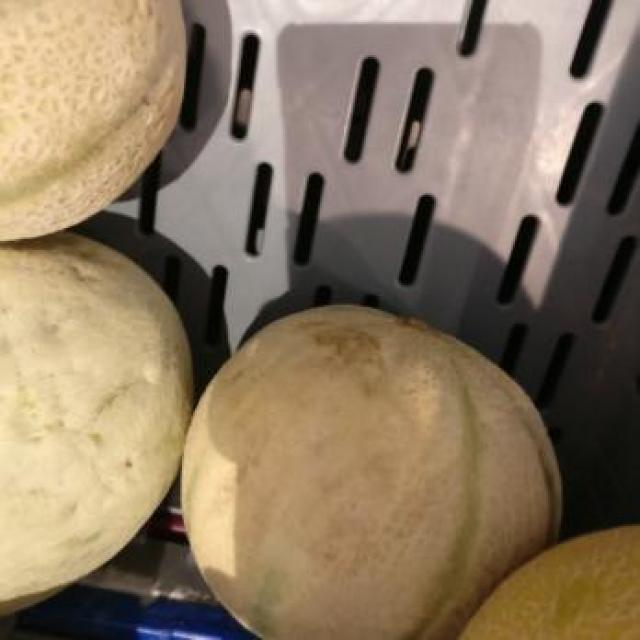Cantaloupe: (186, 304, 566, 638), (0, 237, 191, 612), (0, 0, 189, 243)
